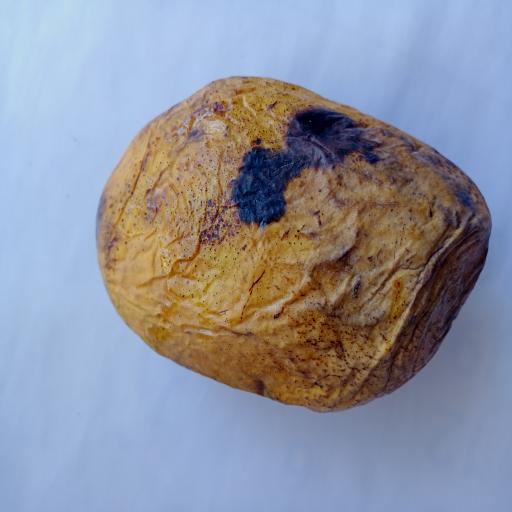mango-overripe: (85, 62, 496, 428)
